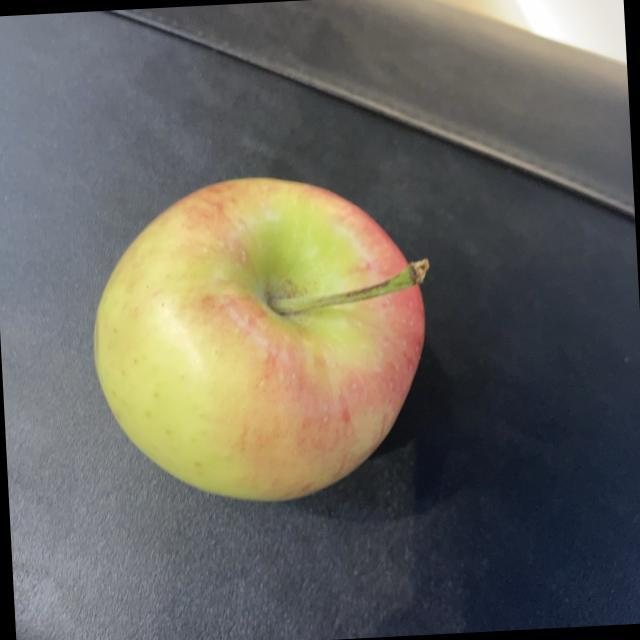Apple: (74, 147, 448, 521)
